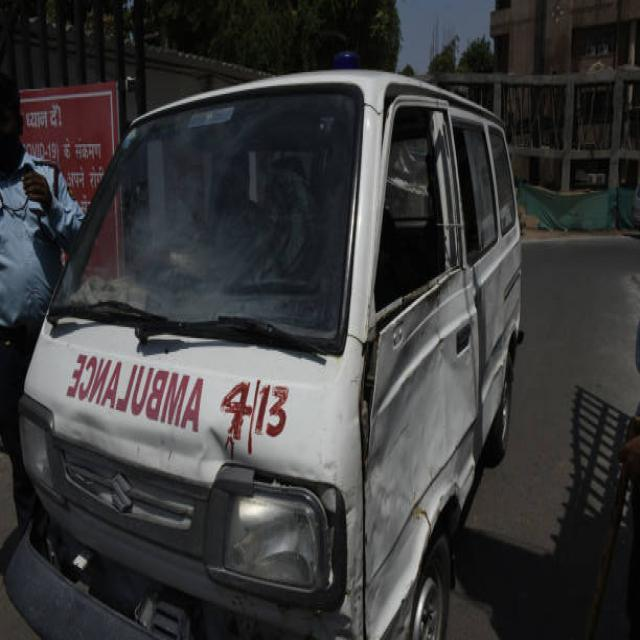ambulance: (8, 113, 578, 633)
